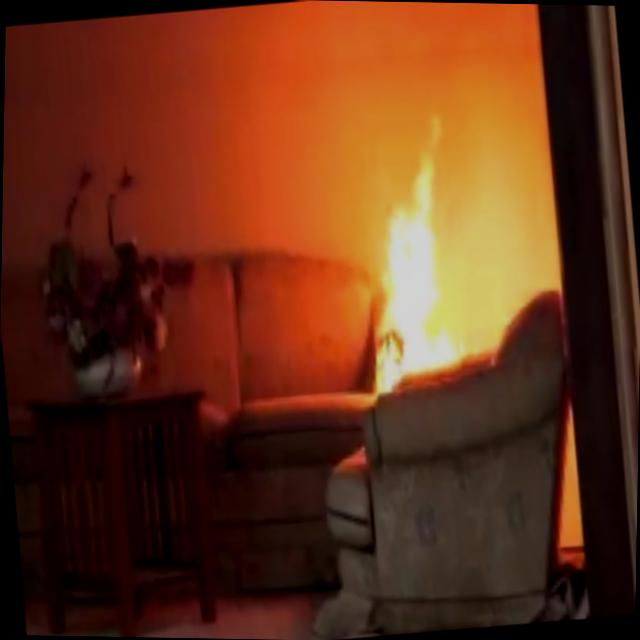fire: (344, 133, 500, 396)
